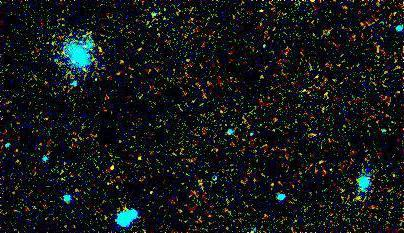star: (98, 151, 128, 181)
